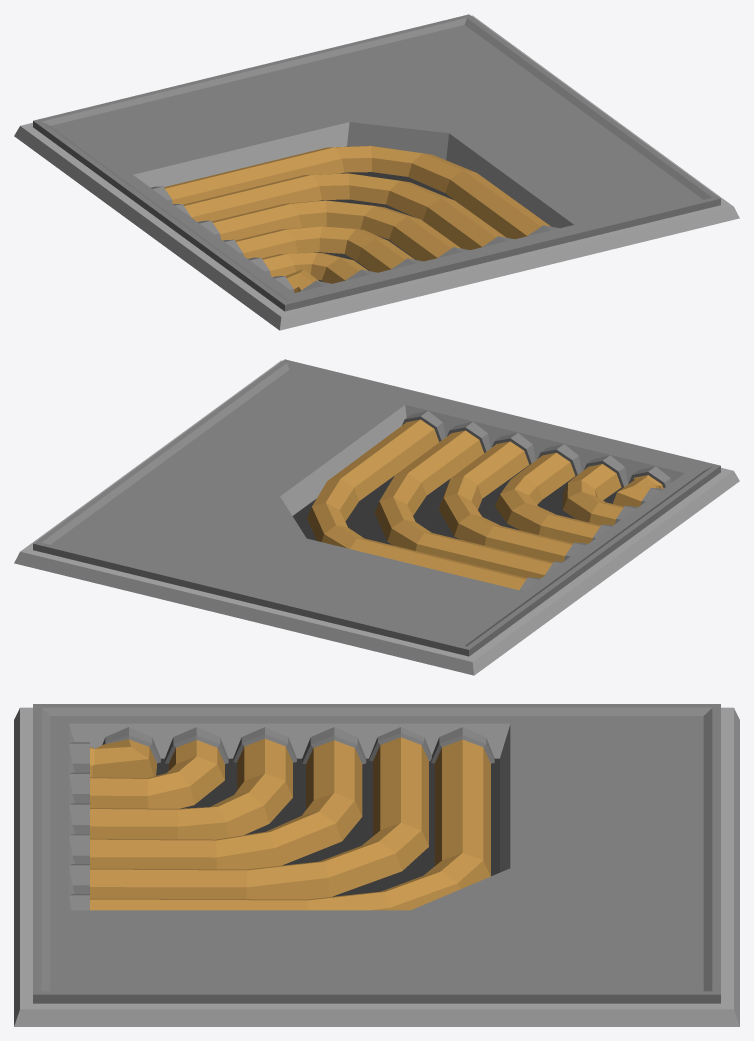
Rendered from RoofTile_Corner_Pipes.gltf.
The picture shows the model from 3 angles, top to bottom: view 1: azimuth 30°, elevation 25°; view 2: azimuth 150°, elevation 25°; view 3: azimuth 270°, elevation 25°; orthographic projection. The views are drawn at different scales.
Visible parts, largest first — view 1: RoofTile_Corner_Pipes; view 2: RoofTile_Corner_Pipes; view 3: RoofTile_Corner_Pipes.
Part boxes in pixels (bbox=[...]): RoofTile_Corner_Pipes: bbox=[14, 14, 739, 330]; RoofTile_Corner_Pipes: bbox=[14, 359, 739, 675]; RoofTile_Corner_Pipes: bbox=[14, 704, 739, 1026].
Bounding box in the file's own units: 2 × 0.1147 × 2.
